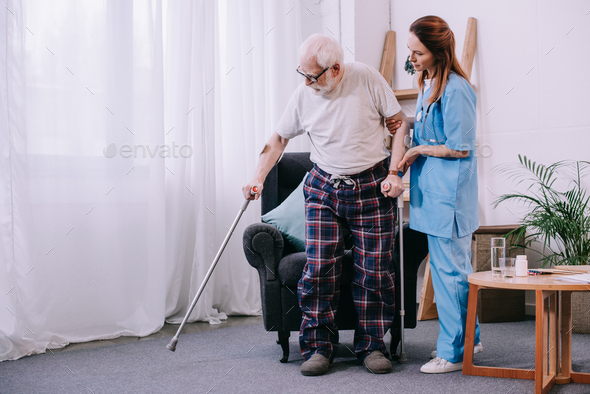crutches: (165, 33, 407, 376)
